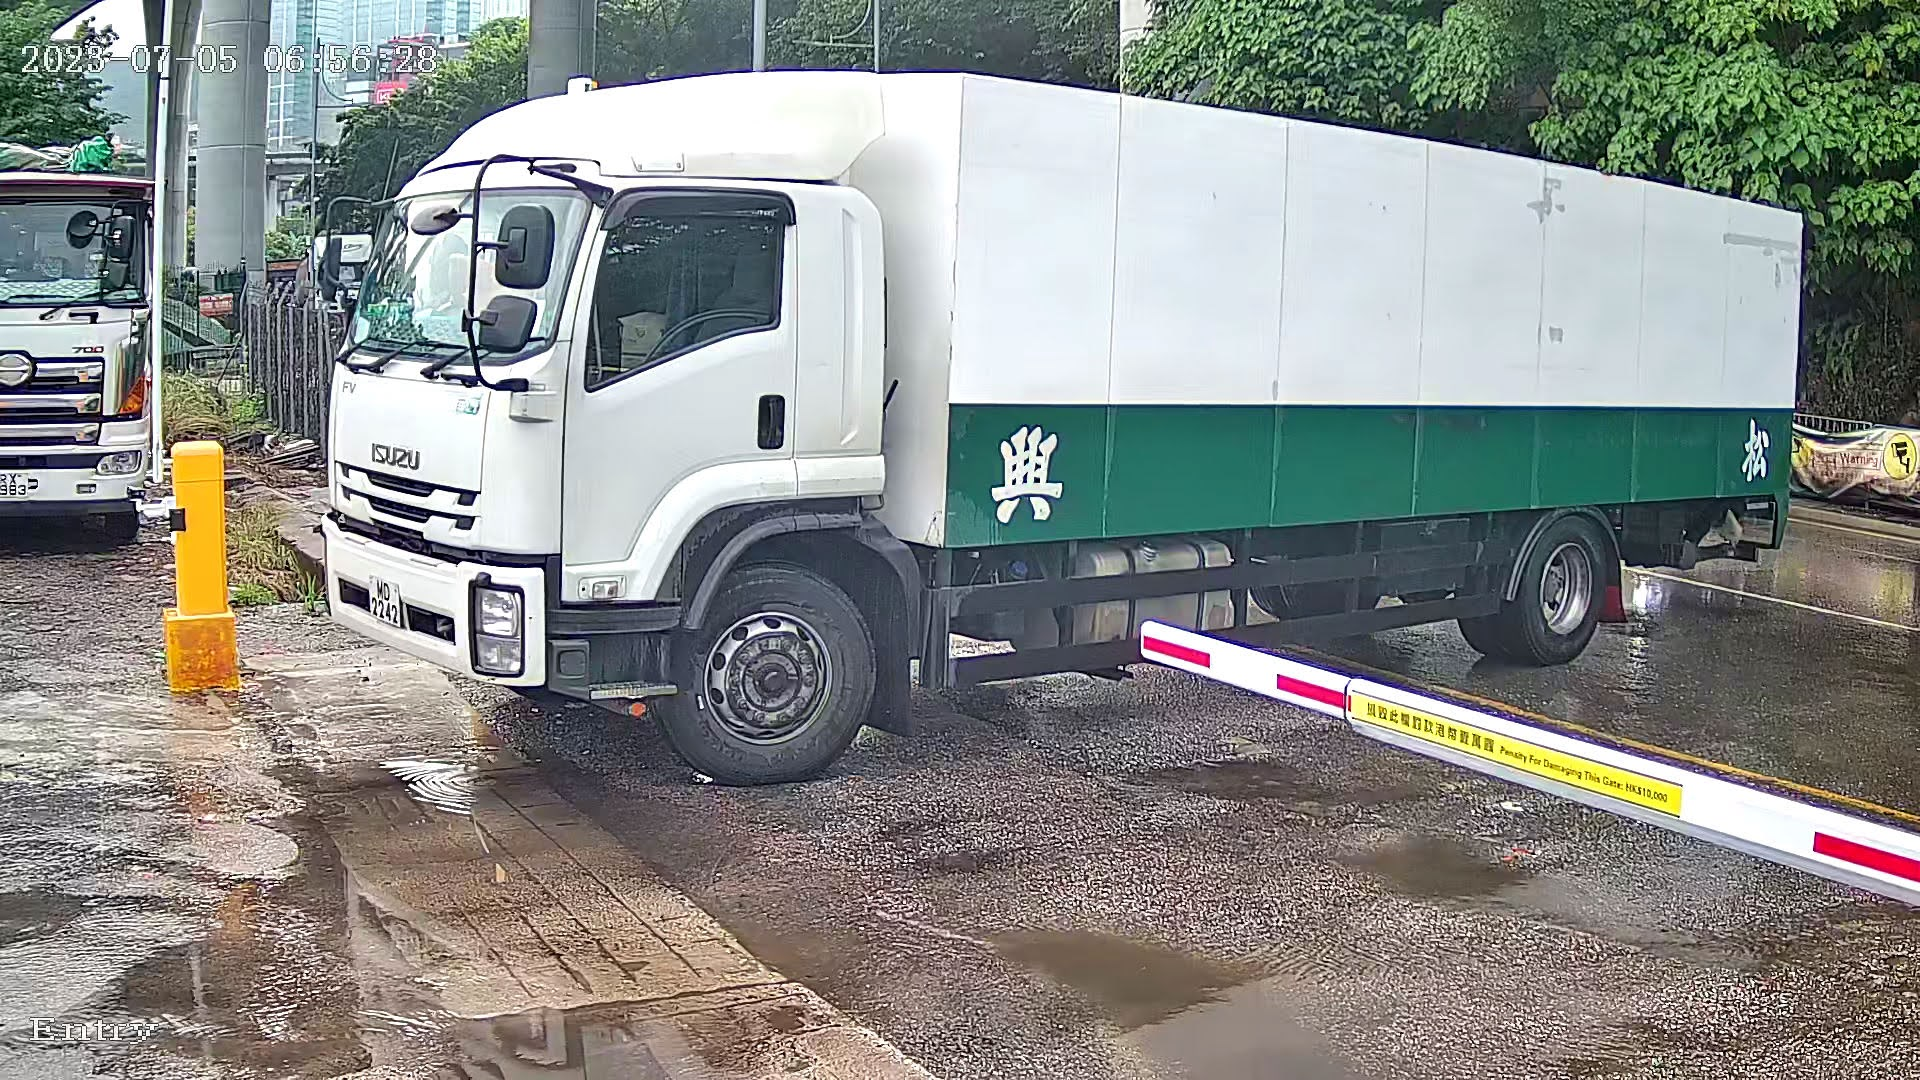truck_large: (280, 37, 1834, 791)
